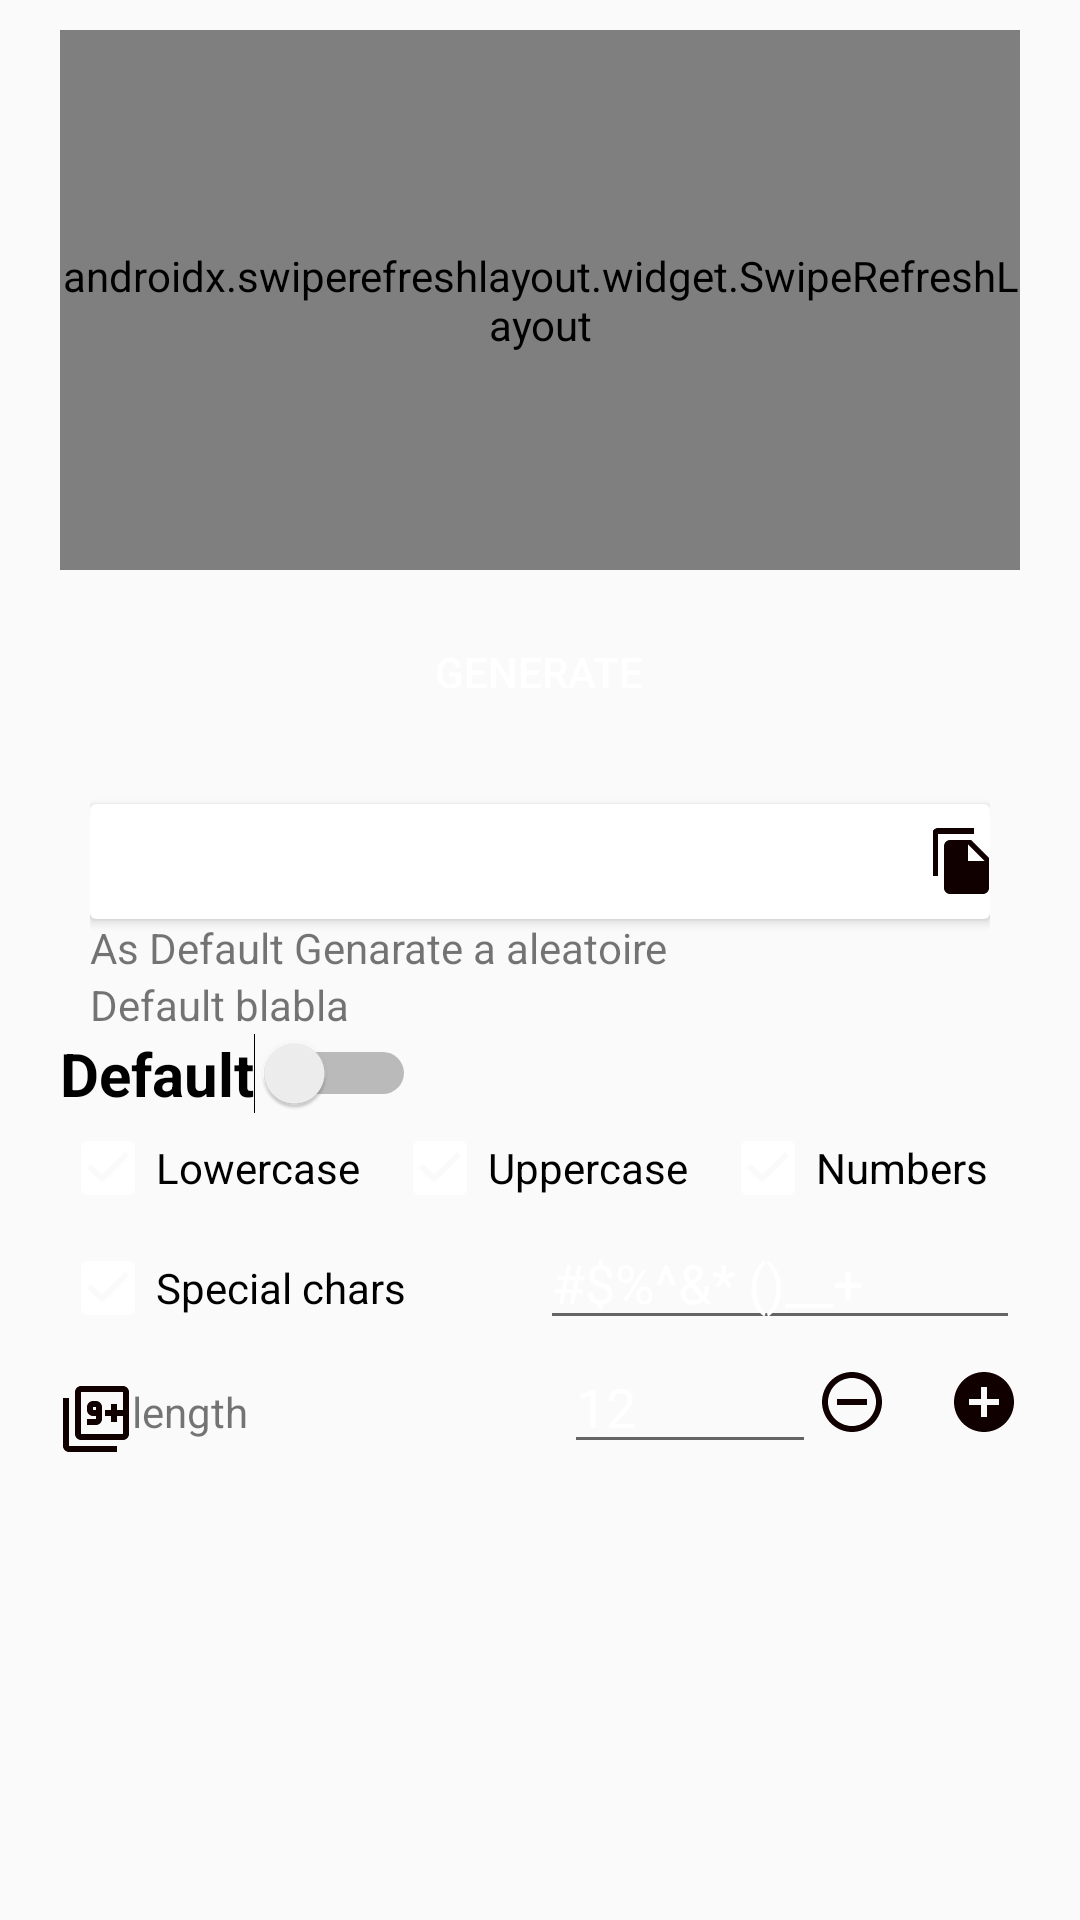

Screen size 1080×1920. Icon name, then its center in pixels as (x=x, y=y):
add circle: (x=984, y=1402)
file: (x=961, y=861)
remove circle: (x=852, y=1402)
